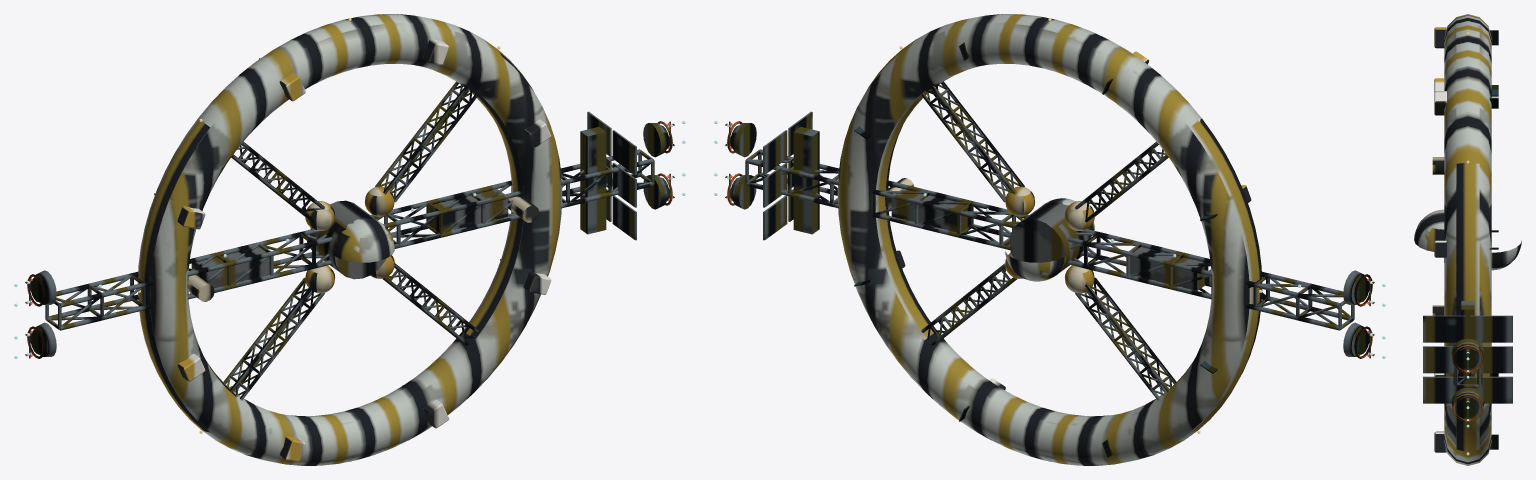
Rendered from station.glb.
3 renders of one model, left to right at view 1: azimuth 30°, elevation 25°; view 2: azimuth 150°, elevation 25°; view 3: azimuth 270°, elevation 25°, orthographic. The views are drawn at different scales.
Parts seen in each view (by area): view 1: merged-c3ccca, merged-5d6a72, merged-646a6c, merged-ededea, merged-cfc7ae, merged-263c43; view 2: merged-c3ccca, merged-5d6a72, merged-646a6c, merged-cfc7ae, merged-263c43; view 3: merged-c3ccca, merged-5d6a72, merged-263c43, merged-ededea, merged-a56233, merged-cfc7ae.
Boxes of the visible parts, box(x1,y1,x2,y2) form: merged-c3ccca: box(137, 14, 562, 465); merged-5d6a72: box(33, 81, 667, 400); merged-646a6c: box(25, 123, 674, 356); merged-ededea: box(177, 39, 551, 461); merged-cfc7ae: box(187, 186, 539, 301); merged-263c43: box(30, 58, 669, 385); merged-c3ccca: box(837, 14, 1262, 465); merged-5d6a72: box(732, 81, 1366, 400); merged-646a6c: box(725, 123, 1374, 356); merged-cfc7ae: box(885, 178, 1211, 293); merged-263c43: box(730, 42, 1369, 457); merged-c3ccca: box(1414, 14, 1521, 465); merged-5d6a72: box(1423, 301, 1512, 418); merged-263c43: box(1456, 30, 1498, 449); merged-ededea: box(1434, 27, 1446, 452); merged-a56233: box(1452, 344, 1483, 421); merged-cfc7ae: box(1432, 157, 1444, 315).
Size of the model in its own units: 215 by 136 by 32.
Materials: 14 (10 with a texture image).
